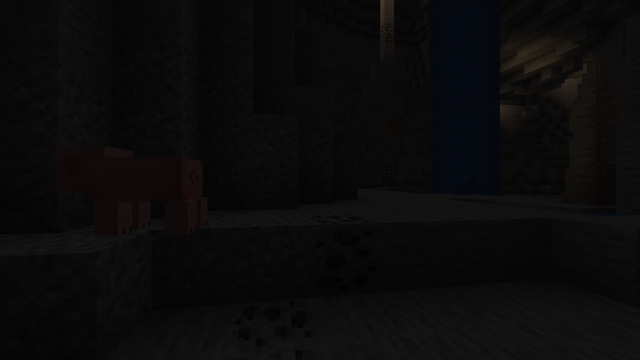cochons: (83, 152, 200, 238)
